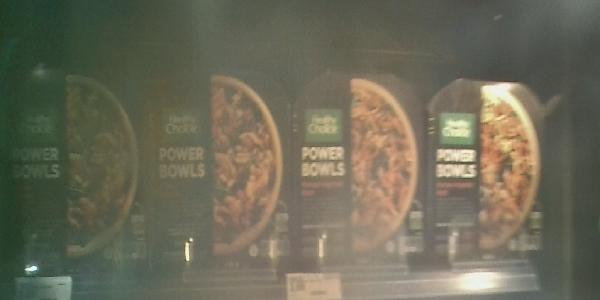pizza1: (2, 54, 149, 272), (147, 57, 294, 265), (296, 67, 429, 269), (428, 72, 552, 259)
